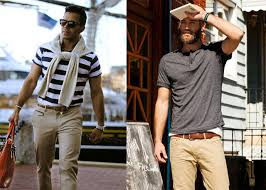F_belt: (167, 129, 226, 144)
